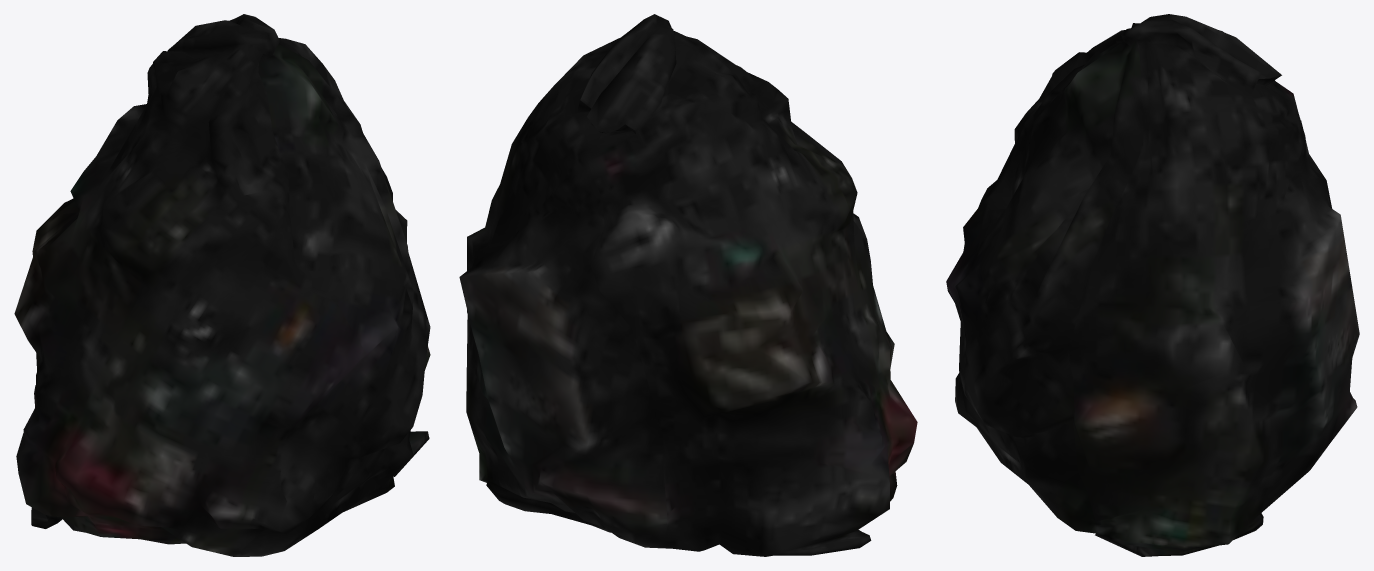
File: trashbag.1043c8ab.glb
The picture shows the model from 3 angles, left to right: view 1: azimuth 30°, elevation 25°; view 2: azimuth 150°, elevation 25°; view 3: azimuth 270°, elevation 25°; orthographic projection. The views are drawn at different scales.
Visible parts, largest first — view 1: trashbag; view 2: trashbag; view 3: trashbag.
Boxes of the visible parts, x1,y1,x2,y2 form: trashbag: (14, 14, 430, 556); trashbag: (459, 14, 917, 556); trashbag: (946, 14, 1359, 556).
Bounding box in the file's own units: 0.5237 × 0.5725 × 0.4629.
Materials: 1 (1 with a texture image).
